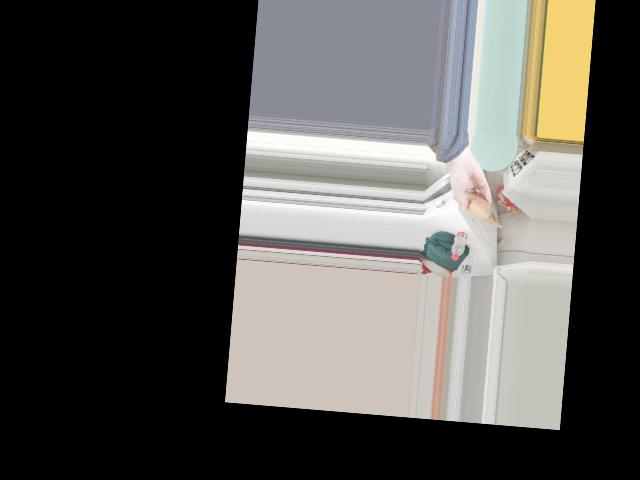sweet_potato: (456, 186, 491, 220)
